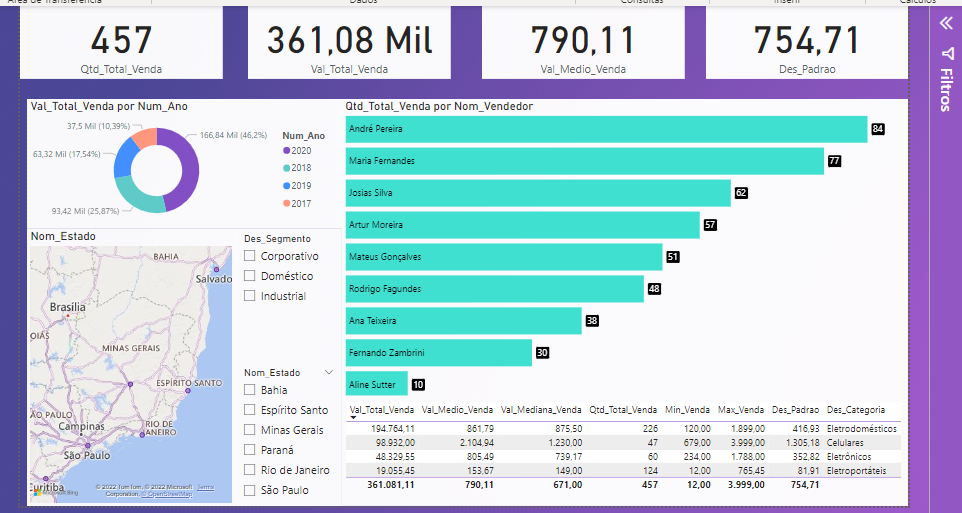

The page's visual inventory and layout, read from the dashboard file:
{"tool":"powerbi","page":{"name":"DASHBOARD 1","canvas":[1280,720],"ordinal":0},"visuals":[{"type":"slicer","fields":{"Values":["DIM_LOJA.Nom_Estado"]},"box":[309.6,514.1,154.1,205.9],"z":0},{"type":"slicer","fields":{"Values":["DIM_PRODUTO.Des_Segmento"]},"box":[309.6,321.1,154.1,193],"z":1000},{"type":"map","fields":{"Category":["DIM_LOJA.Nom_Estado"]},"box":[10.1,321.1,299.5,398.9],"z":2000},{"type":"tableEx","fields":{"Values":["FATO_VENDAS.Val_Total_Venda","FATO_VENDAS.Val_Medio_Venda","FATO_VENDAS.Val_Mediana_Venda","FATO_VENDAS.Qtd_Total_Venda","FATO_VENDAS.Min_Venda","FATO_VENDAS.Max_Venda","FATO_VENDAS.Des_Padrao","DIM_PRODUTO.Des_Categoria"]},"box":[463.7,565.9,816.5,154.1],"z":3000},{"type":"card","fields":{"Values":["FATO_VENDAS.Des_Padrao"]},"box":[987.8,0,292.3,105.1],"z":4000},{"type":"card","fields":{"Values":["FATO_VENDAS.Val_Total_Venda"]},"box":[328.3,0,292.3,105.1],"z":5000},{"type":"card","fields":{"Values":["FATO_VENDAS.Qtd_Total_Venda"]},"box":[0,0,292.3,105.1],"z":6000},{"type":"card","fields":{"Values":["FATO_VENDAS.Val_Medio_Venda"]},"box":[665.3,0,292.3,105.1],"z":7000},{"type":"donutChart","fields":{"Category":["DIM_TEMPO.Num_Ano"],"Y":["FATO_VENDAS.Val_Total_Venda"]},"box":[10.1,133.9,453.6,187.2],"z":7002},{"type":"BarChartF5983CEA542C47889C9DE852B430DE5F","fields":{"category":["DIM_VENDEDOR.Nom_Vendedor"],"measure":["FATO_VENDAS.Qtd_Total_Venda"]},"box":[463.7,133.9,816.5,432],"z":7003}]}

Visuals, with their boxes in screenshot pixels (x1, y1, x2, y2):
slicer - DIM_LOJA.Nom_Estado: rect(235, 362, 344, 506)
slicer - DIM_PRODUTO.Des_Segmento: rect(235, 226, 344, 362)
map - DIM_LOJA.Nom_Estado: rect(25, 226, 235, 506)
tableEx - FATO_VENDAS.Val_Total_Venda x FATO_VENDAS.Val_Medio_Venda: rect(344, 398, 918, 506)
card - FATO_VENDAS.Des_Padrao: rect(712, 0, 918, 74)
card - FATO_VENDAS.Val_Total_Venda: rect(248, 0, 454, 74)
card - FATO_VENDAS.Qtd_Total_Venda: rect(18, 0, 223, 74)
card - FATO_VENDAS.Val_Medio_Venda: rect(486, 0, 691, 74)
donutChart - DIM_TEMPO.Num_Ano x FATO_VENDAS.Val_Total_Venda: rect(25, 94, 344, 226)
BarChartF5983CEA542C47889C9DE852B430DE5F - DIM_VENDEDOR.Nom_Vendedor x FATO_VENDAS.Qtd_Total_Venda: rect(344, 94, 918, 398)
